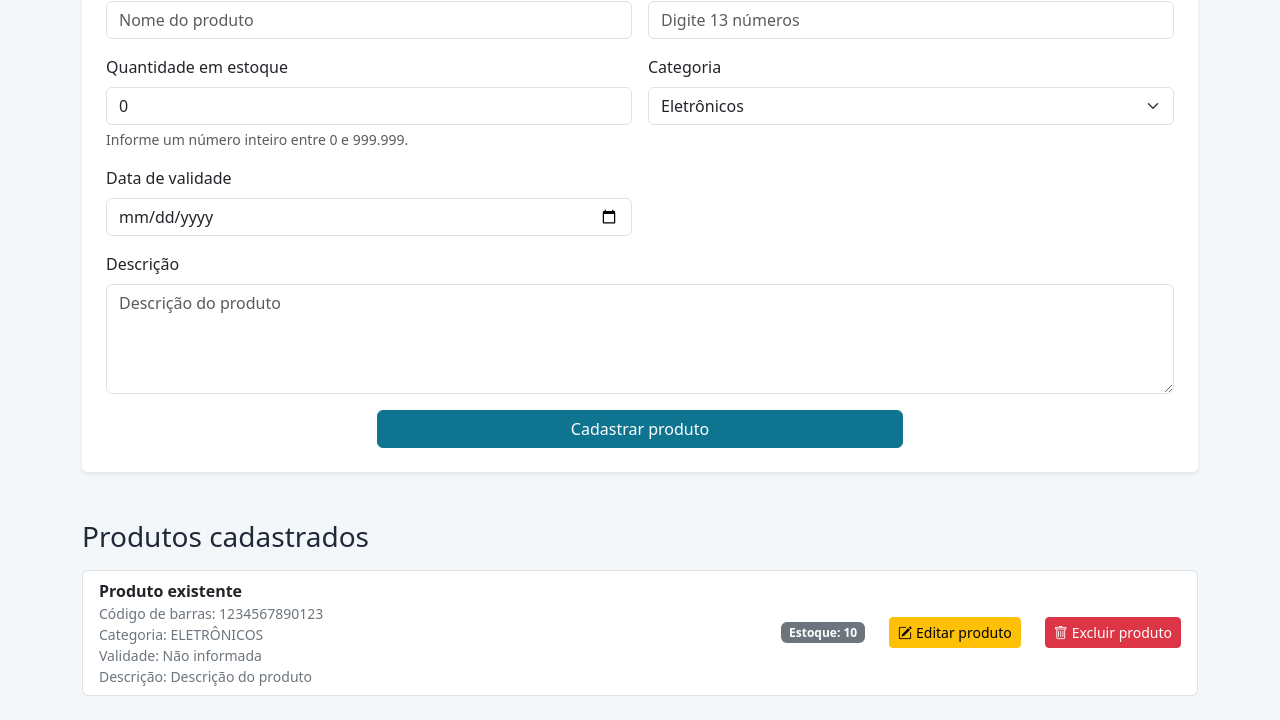
Test case: ProductsPage › atualiza um produto existente
The width and height of the screenshot is (1280, 720).
(page scrolled)
Expected: the text "Produto existente" is shown, [99, 580, 242, 602]
Click the button "Editar produto".
click(955, 633)  # box [889, 617, 1021, 648]
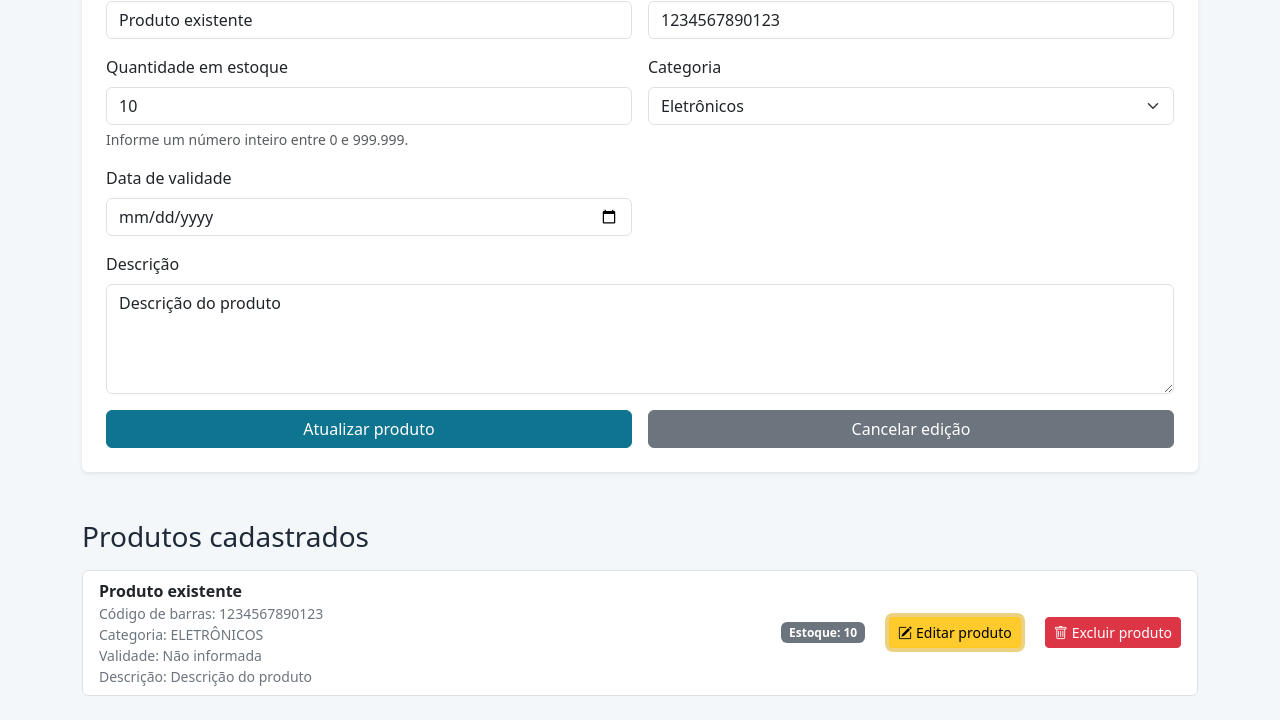
Replace the text in the field labelled "Quantidade em estoque" with "25" at (369, 106), box [106, 87, 632, 125]
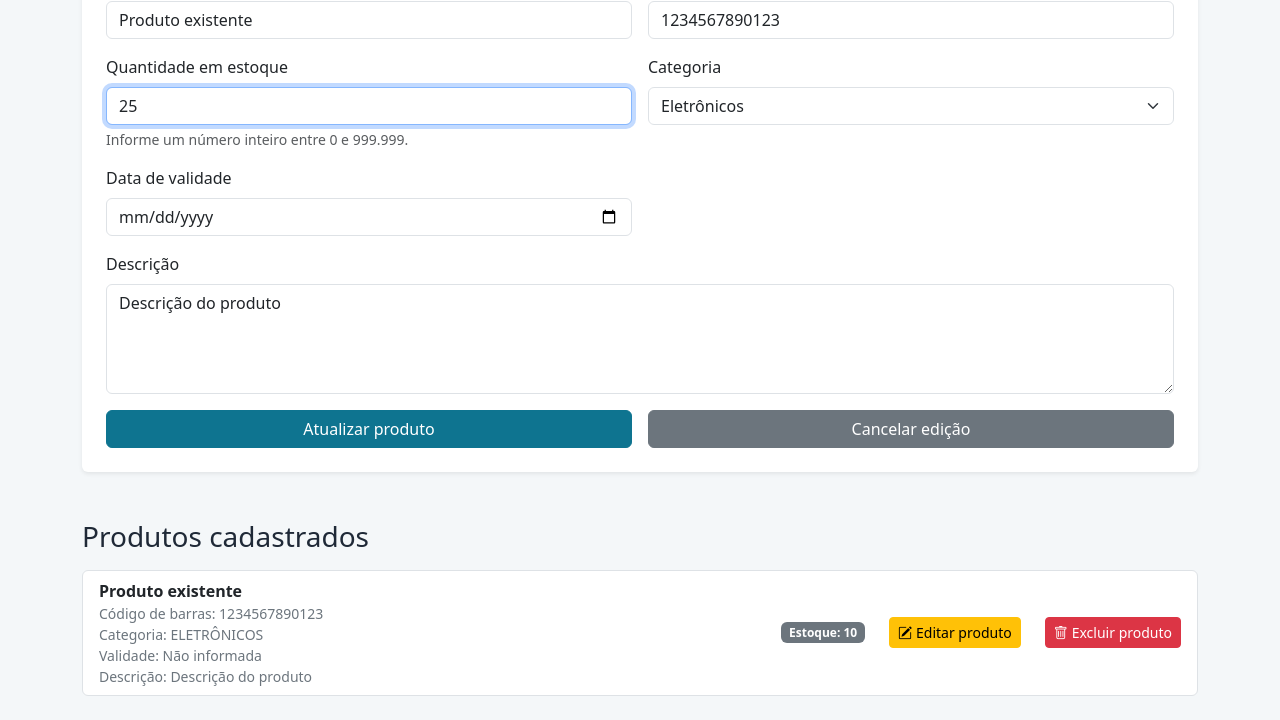
Click the button "Atualizar produto".
click(369, 429)  # box [106, 410, 632, 448]
(page scrolled)
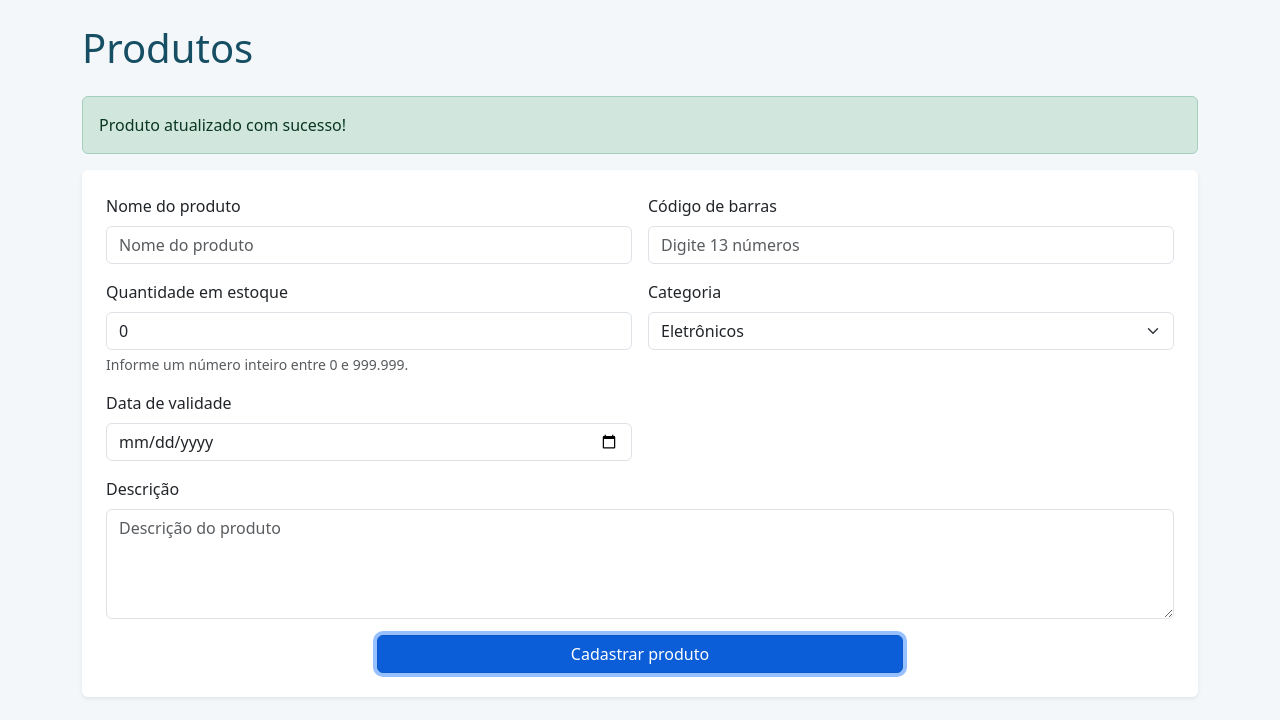
Expected: the message reads "Produto atualizado com sucesso!", [99, 114, 346, 136]
